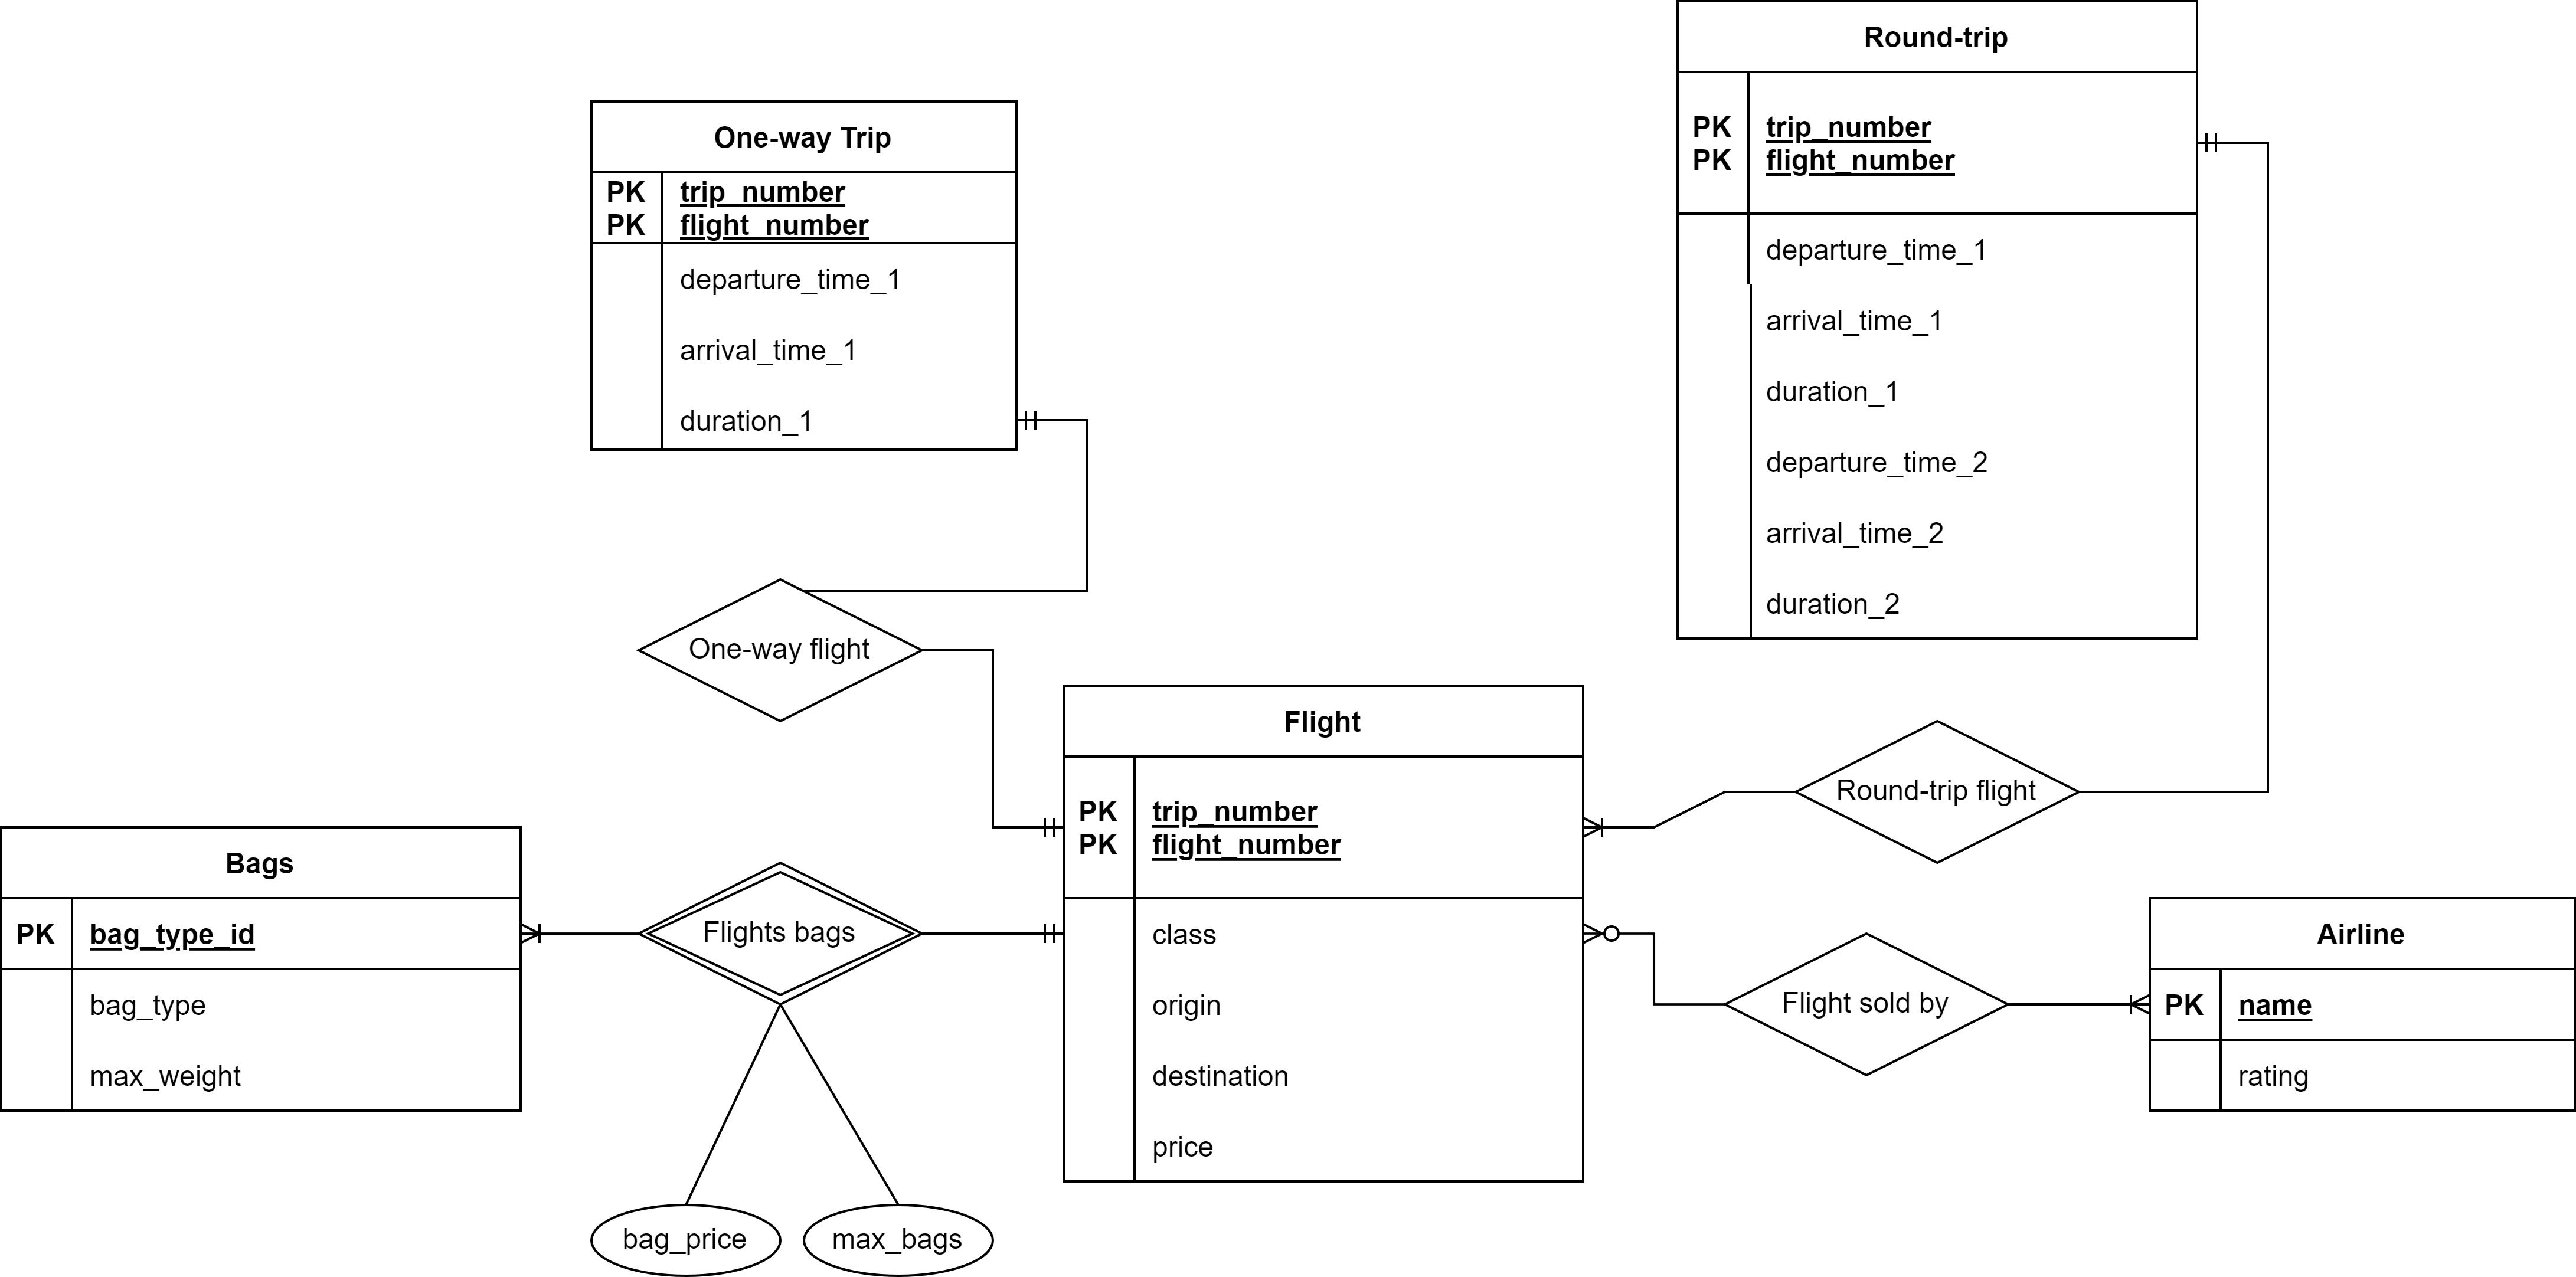attribute: (588, 1203, 780, 1277), (805, 1203, 992, 1277)
entity: (1671, 0, 2200, 645), (1060, 676, 1585, 1187), (585, 95, 1022, 456), (0, 826, 524, 1118), (2146, 890, 2576, 1115)
relationship: (639, 578, 923, 724), (1797, 716, 2077, 862), (1725, 932, 2008, 1075)
weakrelationship: (637, 865, 920, 1009)
